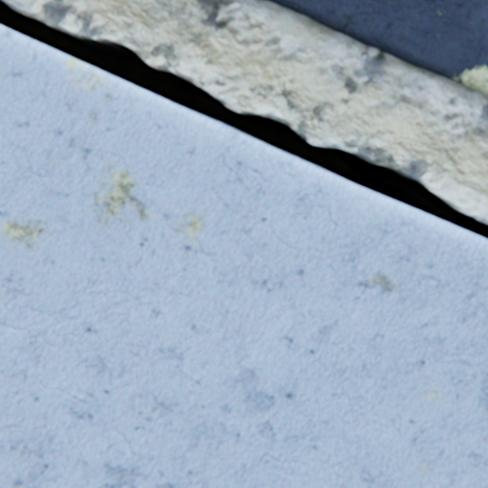brick: (0, 25, 487, 487), (265, 0, 487, 96)
crack: (0, 0, 487, 238)
